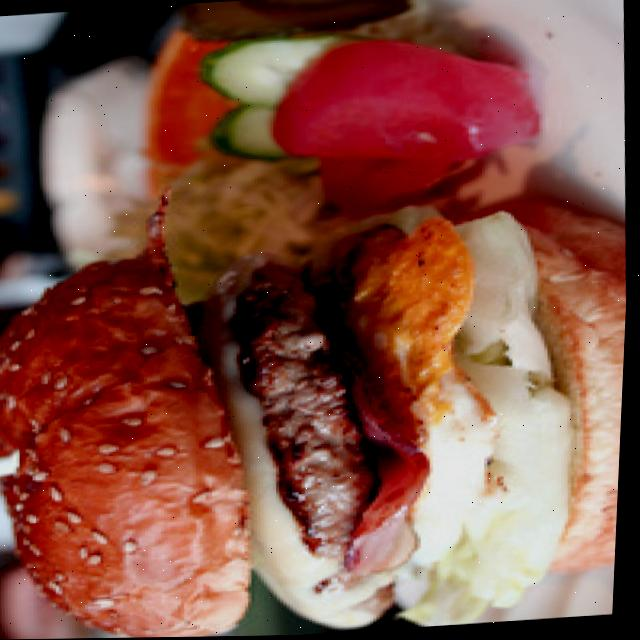汉堡快餐: (0, 188, 633, 640)
